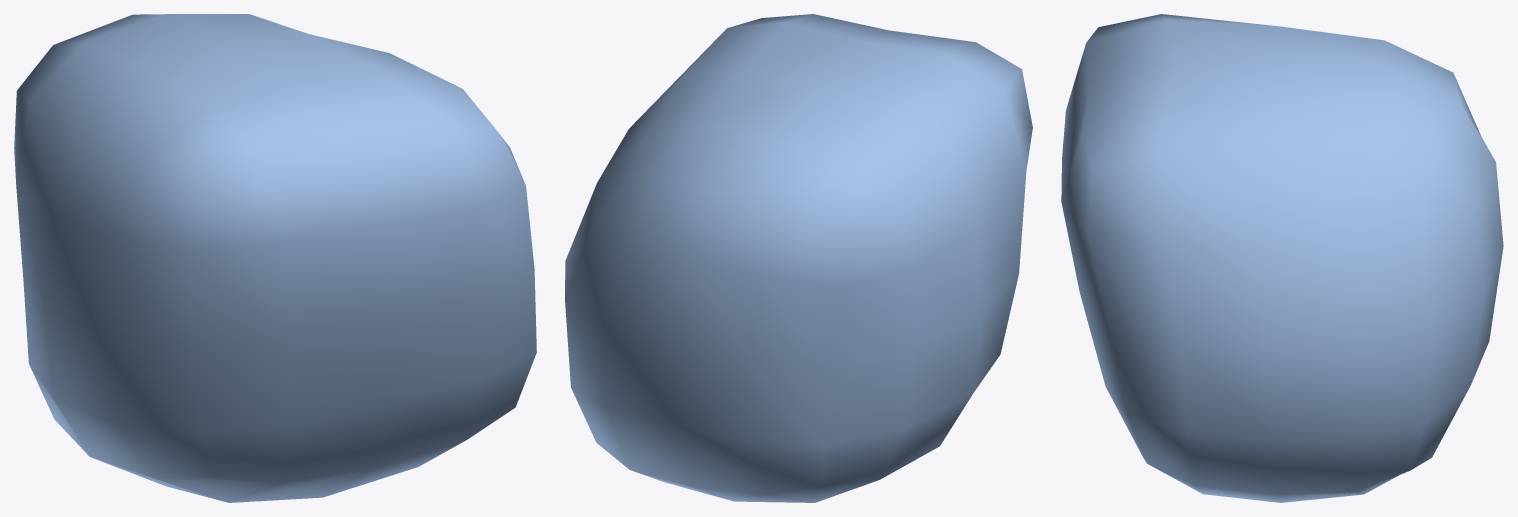
Rendered from Rock2.fbx.
The picture shows the model from 3 angles, left to right: view 1: azimuth 30°, elevation 25°; view 2: azimuth 150°, elevation 25°; view 3: azimuth 270°, elevation 25°; orthographic projection. The views are drawn at different scales.
Visible parts, largest first — view 1: Rock.001; view 2: Rock.001; view 3: Rock.001.
Part boxes in pixels (box(x1,y1,x2,y2)): Rock.001: box(14, 14, 536, 502); Rock.001: box(565, 14, 1032, 502); Rock.001: box(1061, 14, 1503, 502).
Size of the model in its own units: 16.08 by 16.12 by 16.17.
